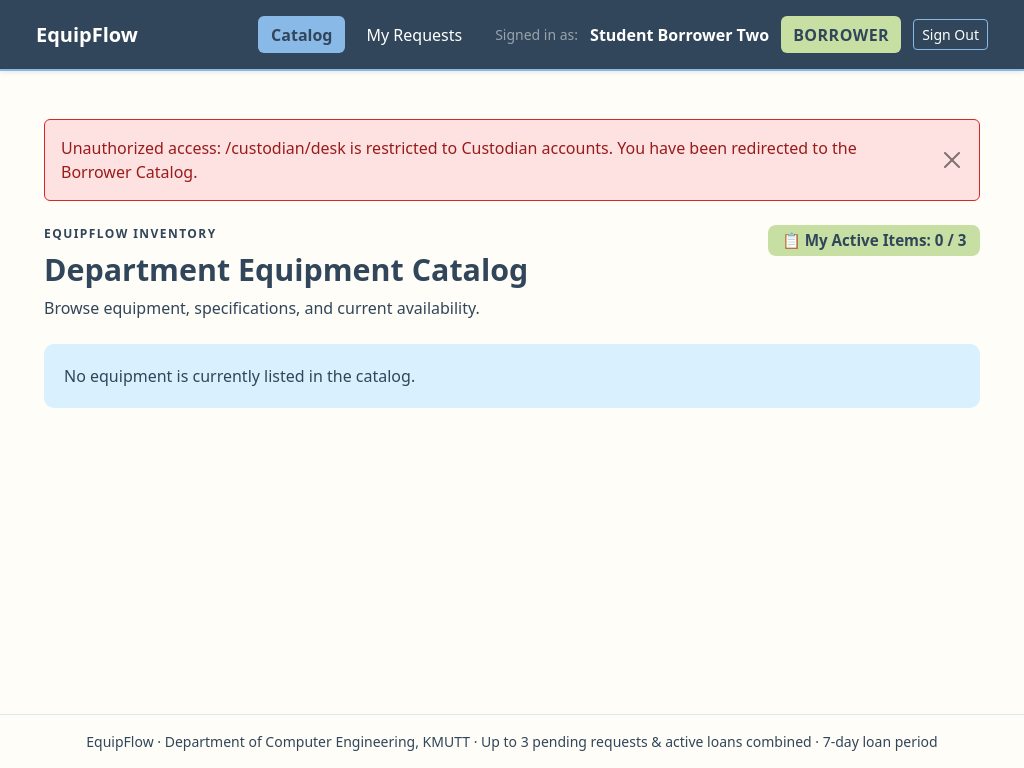
Test: Sprint 1 - Role-Based Route Guard (DEF-EF-01) › DEF-EF-01: redirects BORROWER from /custodian/desk to / and renders a dismissible unauthorized alert
This screenshot has width=1024, height=768.
Expected: the heading "Department Equipment Catalog" is shown, [44,251,528,288]
Expected: the message is shown, [44,119,980,201]
Click the button named "close unauthorized notice": (952, 160) [940,148,963,172]
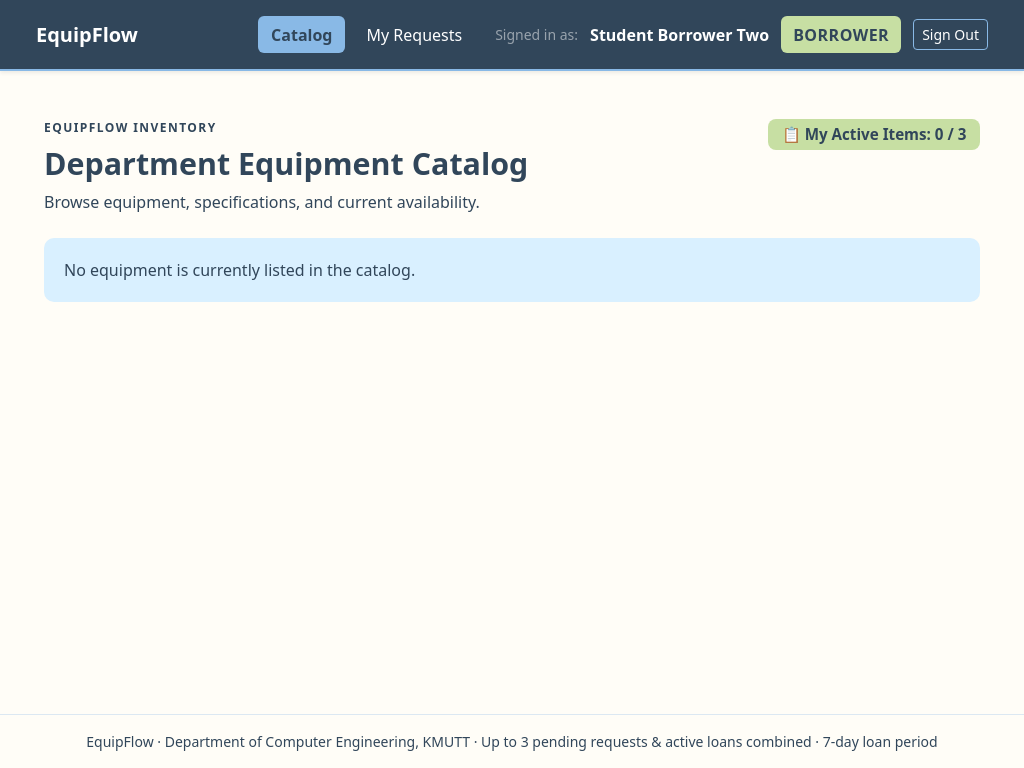
Expected: the message is gone
